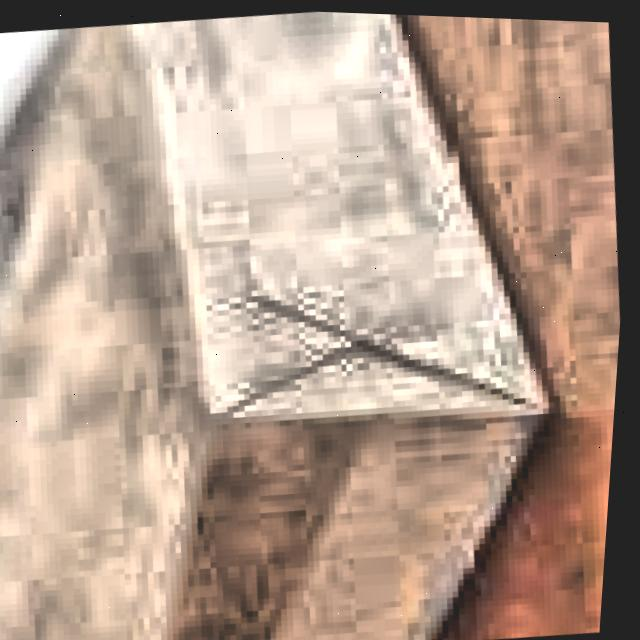paper: (0, 9, 557, 640)
